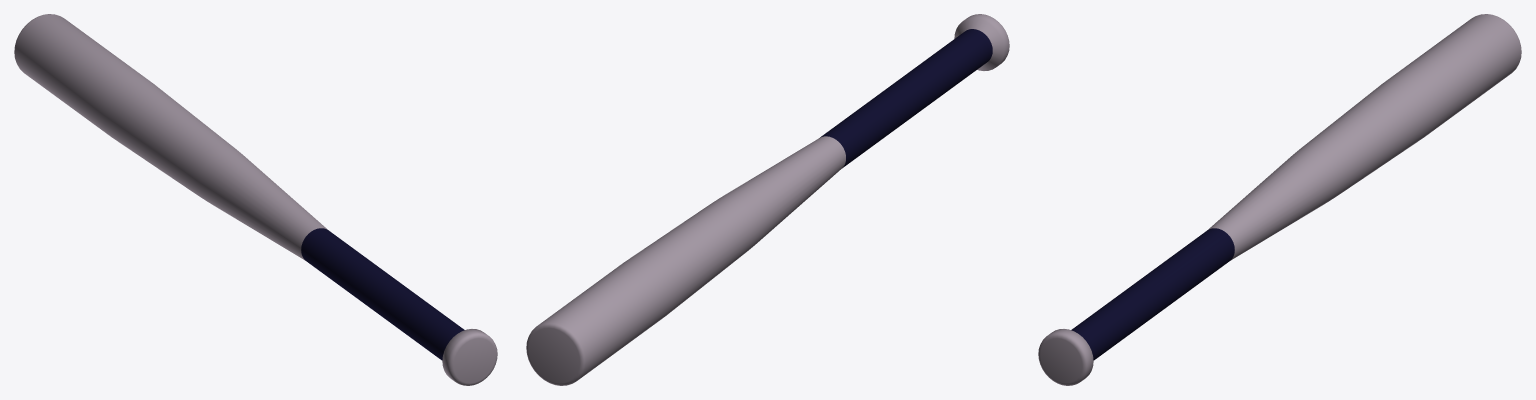
File: baseballbat.fbx
The picture shows the model from 3 angles, left to right: view 1: azimuth 30°, elevation 25°; view 2: azimuth 150°, elevation 25°; view 3: azimuth 330°, elevation 25°; orthographic projection.
Visible parts, largest first — view 1: Cylinder; view 2: Cylinder; view 3: Cylinder.
Boxes of the visible parts, bbox=[...] form: Cylinder: bbox=[14, 14, 497, 385]; Cylinder: bbox=[526, 14, 1009, 385]; Cylinder: bbox=[1038, 14, 1521, 385].
Size of the model in its own units: 36.02 by 36.02 by 458.
